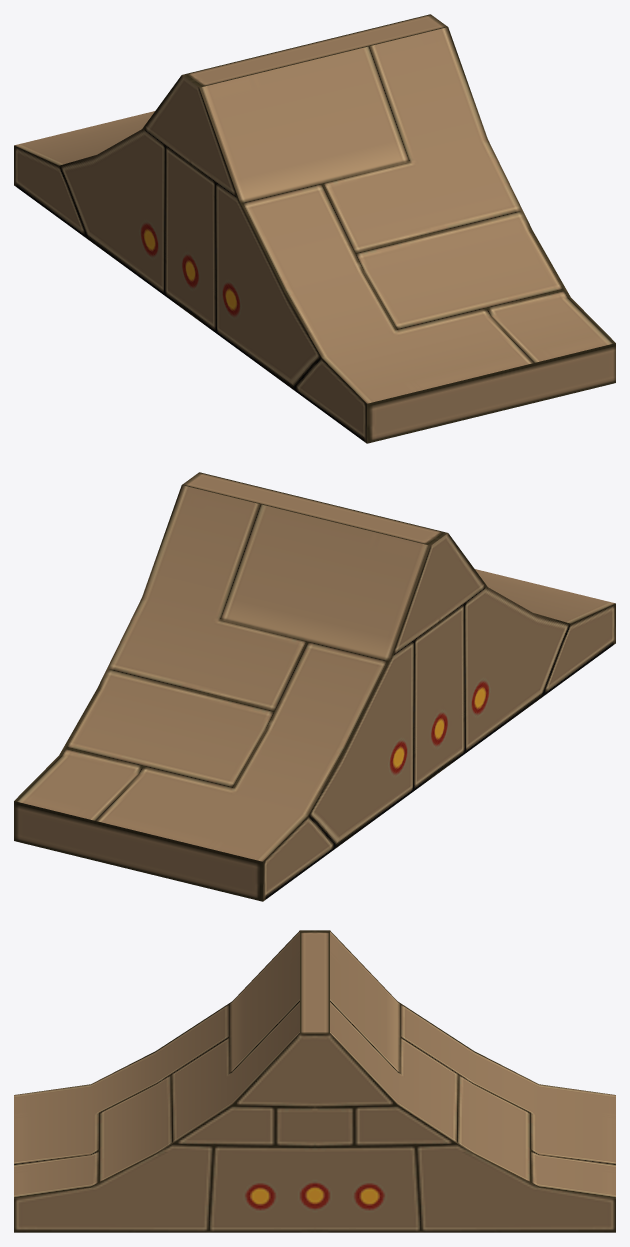
The model's file is egypt_halframp.gltf.
3 renders of one model, top to bottom at view 1: azimuth 30°, elevation 25°; view 2: azimuth 150°, elevation 25°; view 3: azimuth 270°, elevation 25°, orthographic. The views are drawn at different scales.
Parts seen in each view (by area): view 1: egypt_halframp_glb; view 2: egypt_halframp_glb; view 3: egypt_halframp_glb.
Part boxes in pixels (box(x1,y1,x2,y2)): egypt_halframp_glb: box(14, 14, 615, 443); egypt_halframp_glb: box(14, 472, 615, 901); egypt_halframp_glb: box(14, 930, 615, 1232).
Size of what is drawn, in the model's own units: 1.63 by 1.46 by 4.
1 material, 1 textured.
